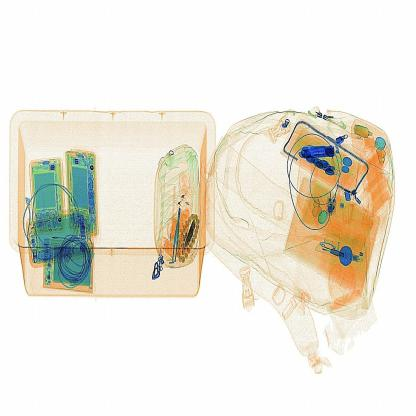knife: (298, 142, 342, 164)
